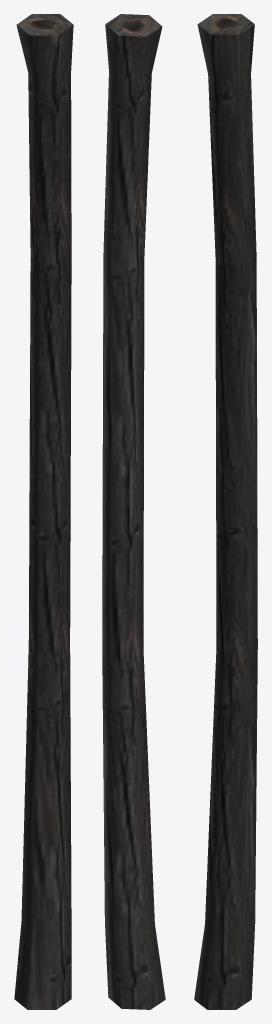
File: WoodenLog_04.FBX
3 views of the same model, side by side, from view 1: azimuth 30°, elevation 25°; view 2: azimuth 150°, elevation 25°; view 3: azimuth 330°, elevation 25° (orthographic).
Visible parts, largest first — view 1: WoodenLog_04; view 2: WoodenLog_04; view 3: WoodenLog_04.
Boxes of the visible parts, x1,y1,x2,y2 form: WoodenLog_04: (14, 14, 73, 1009); WoodenLog_04: (102, 14, 165, 1009); WoodenLog_04: (194, 14, 257, 1009).
Size of the model in its own units: 14.91 by 287 by 15.62.
